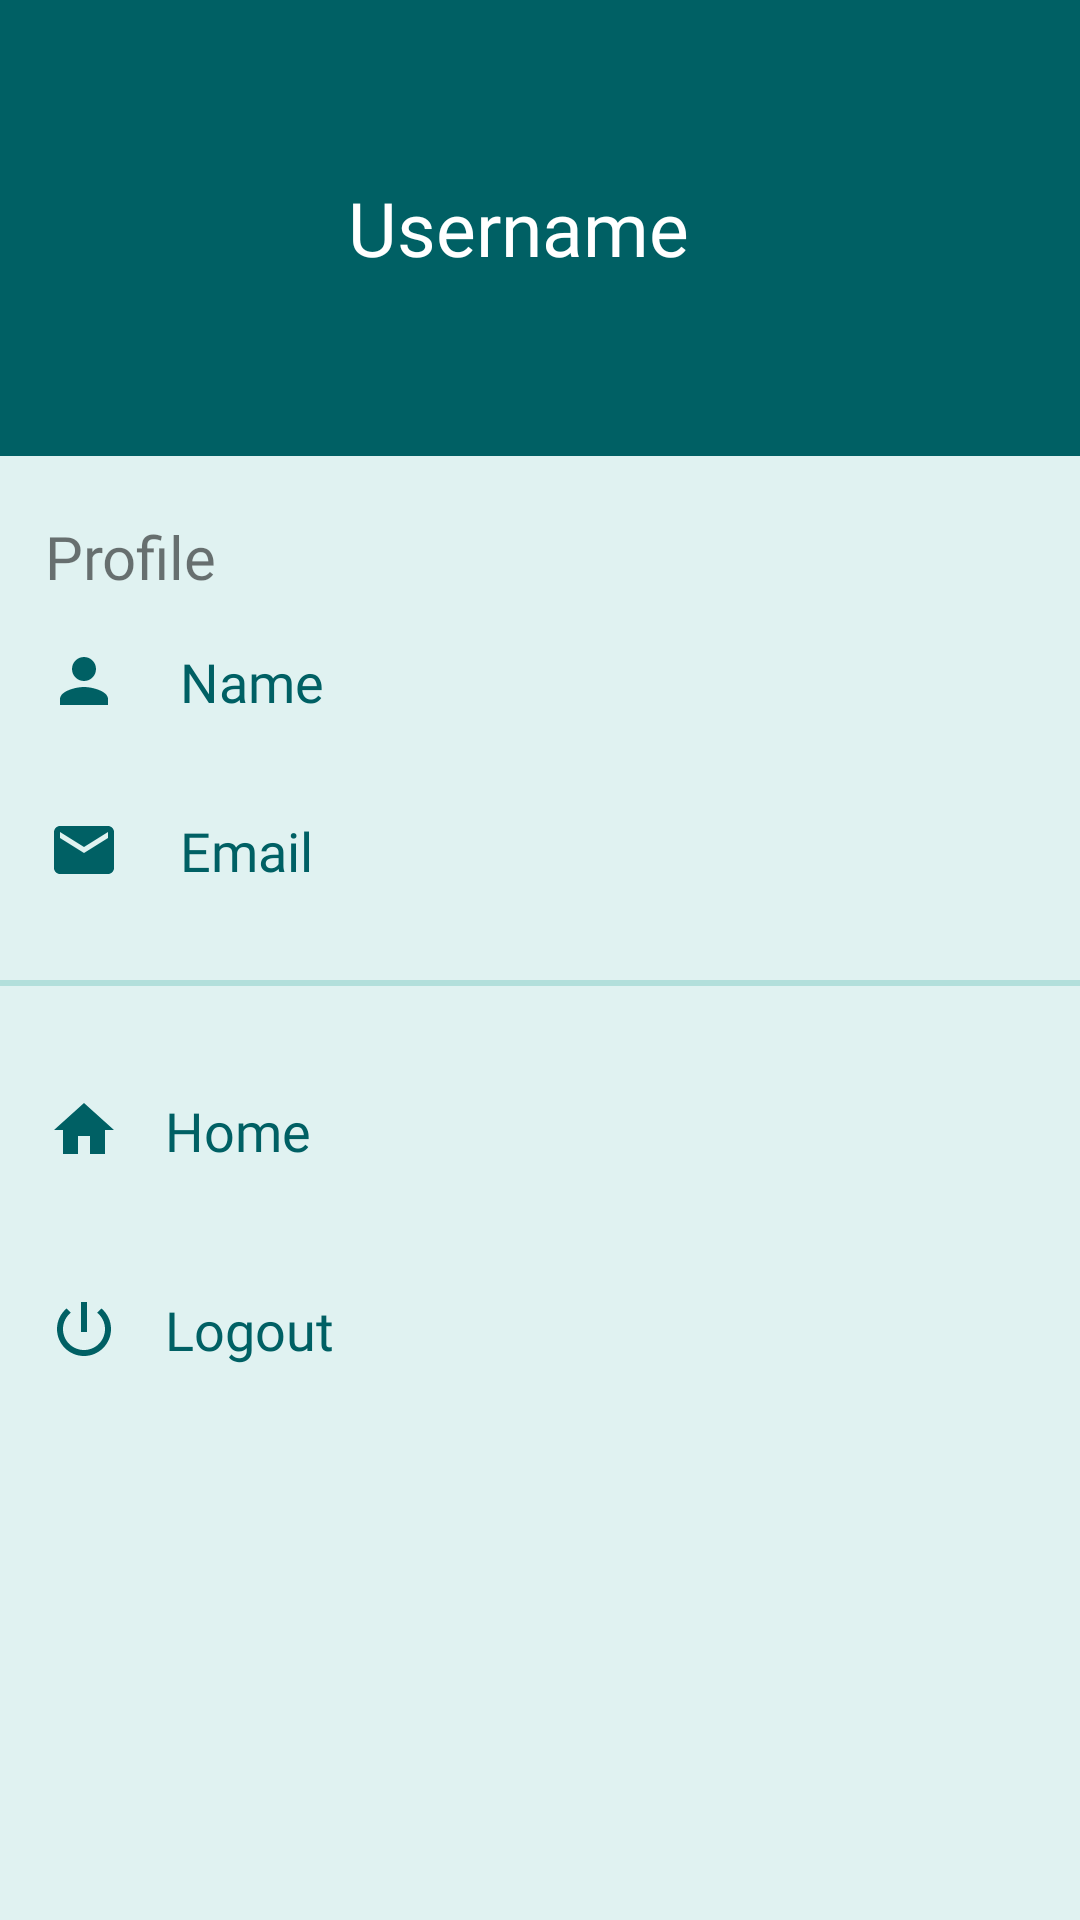

Icons on this 1080 x 1920 Android screen, each with its box as (x1, y1, x2, y2):
person: (60, 657, 108, 705)
power settings: (57, 1302, 111, 1356)
